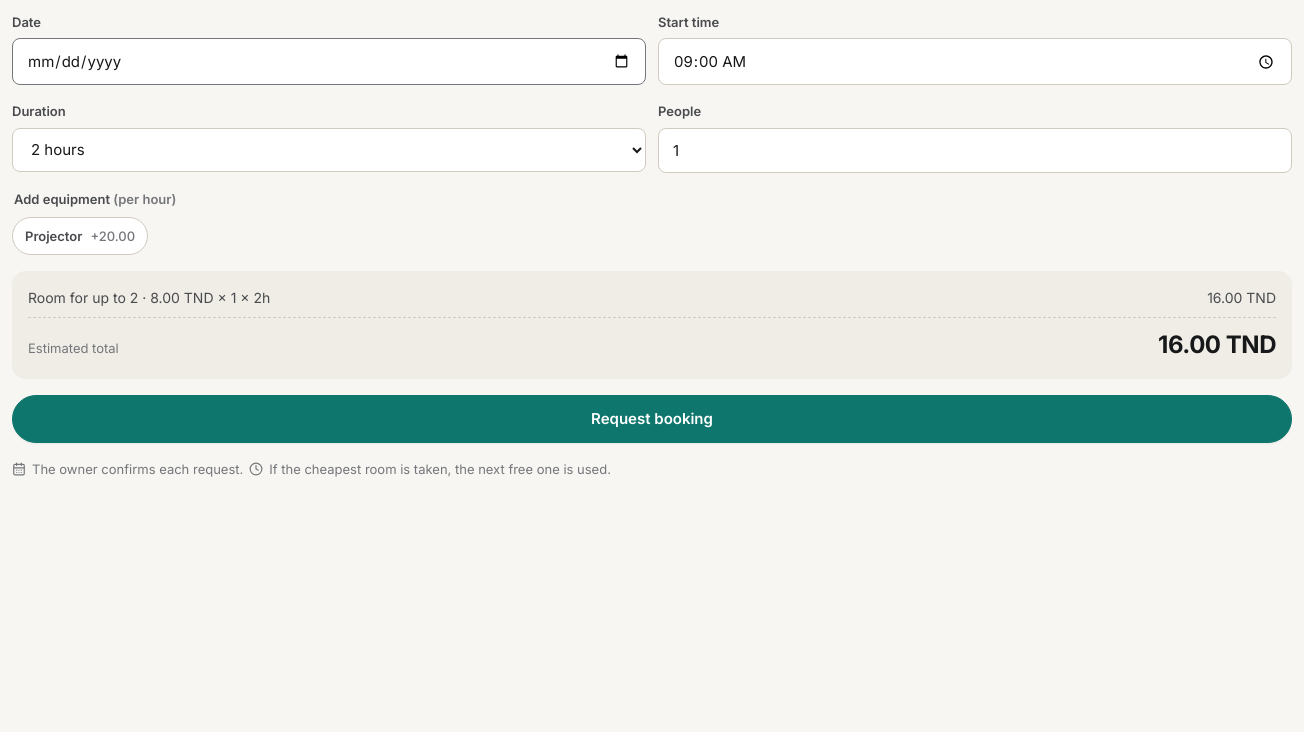
BookingForm › refuses bookings that run past midnight
The image size is (1304, 732).
Type "2099-01-15" into the date field labelled "Date" at [329, 62], box [12, 38, 646, 85]
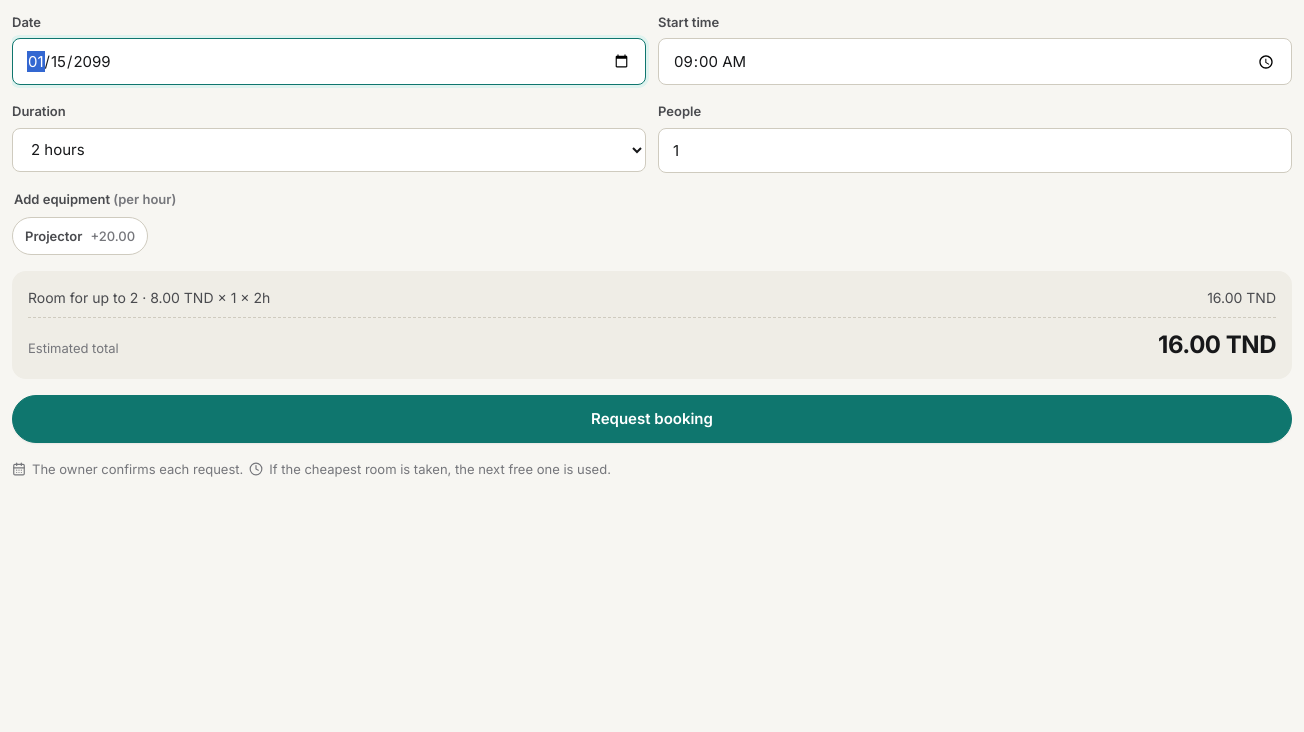
Replace the text in the time field labelled "Start time" with "23:00" at [975, 62], box [658, 38, 1292, 85]
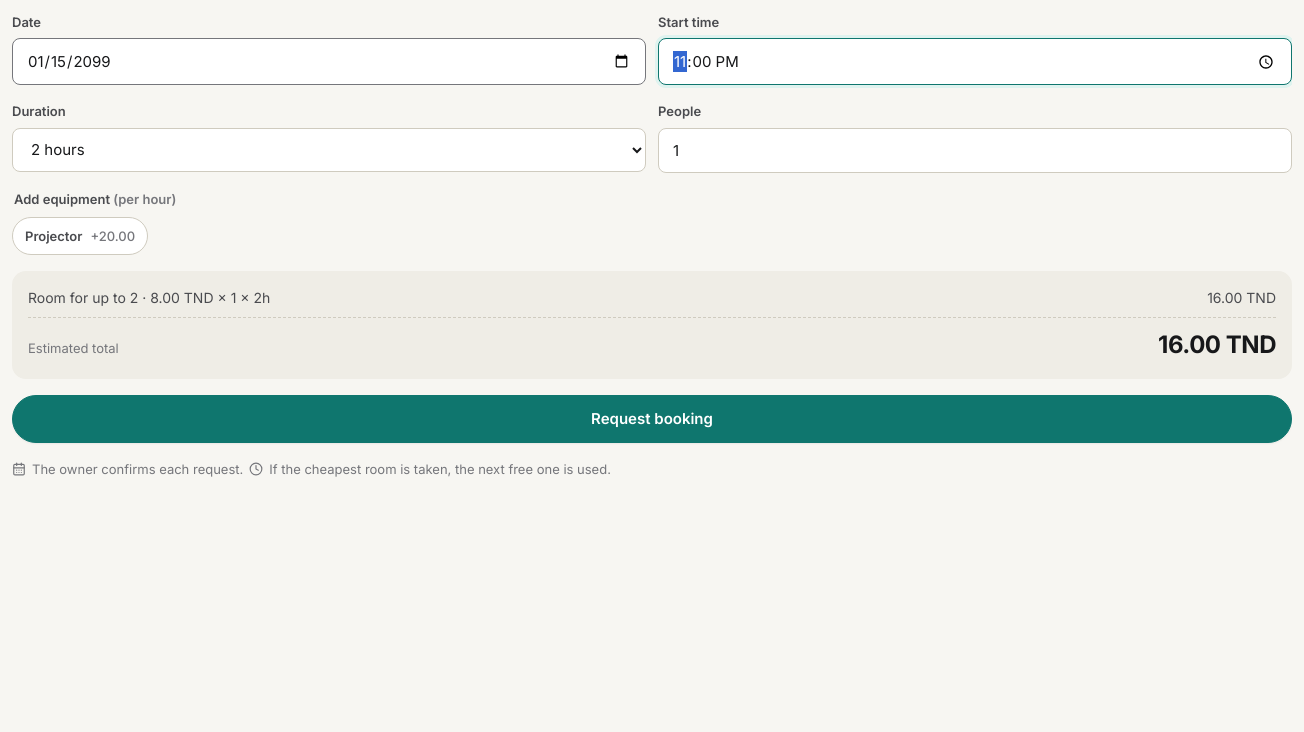
Click the button "Request booking" at [652, 419], box [12, 395, 1292, 443]
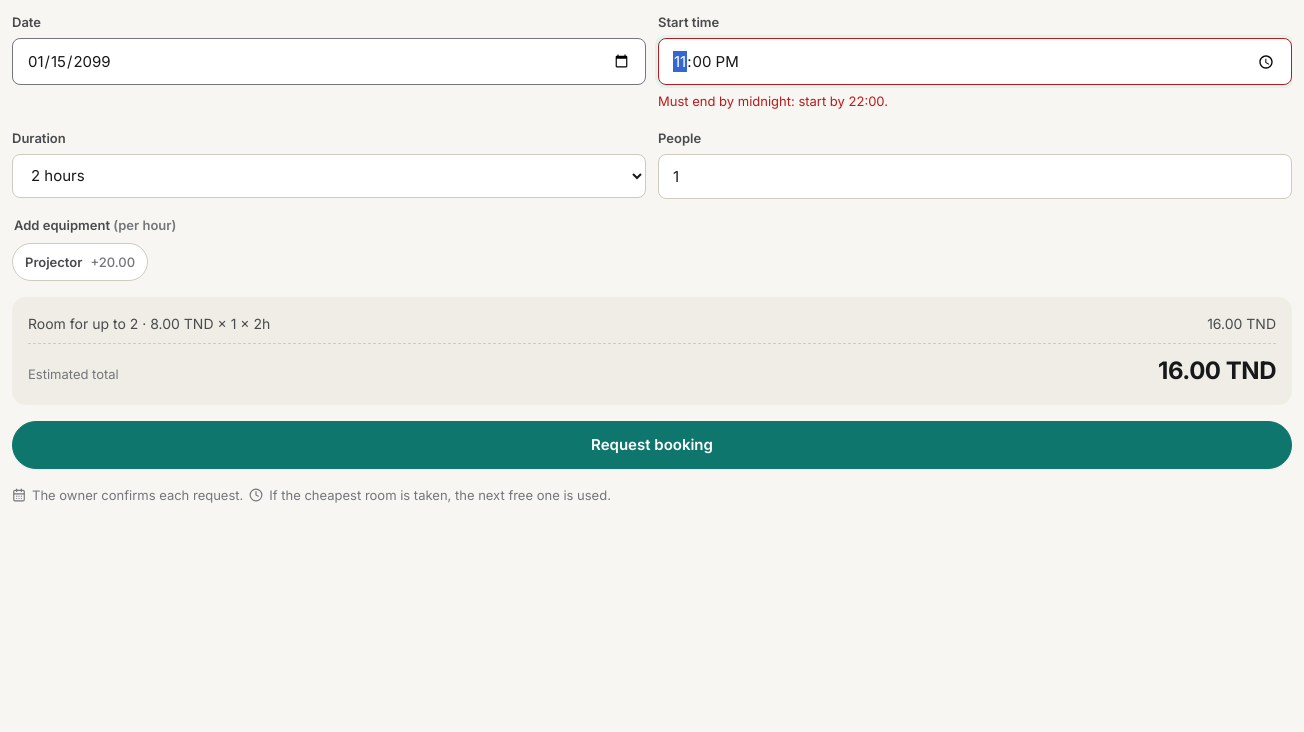
Result: the text "Must end by midnight: start by 22:00." is shown at [658, 93, 888, 109]
